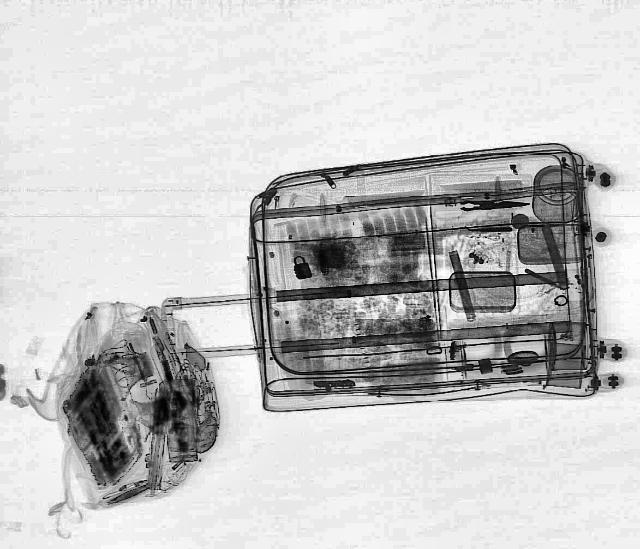Knife: (459, 199, 529, 212)
